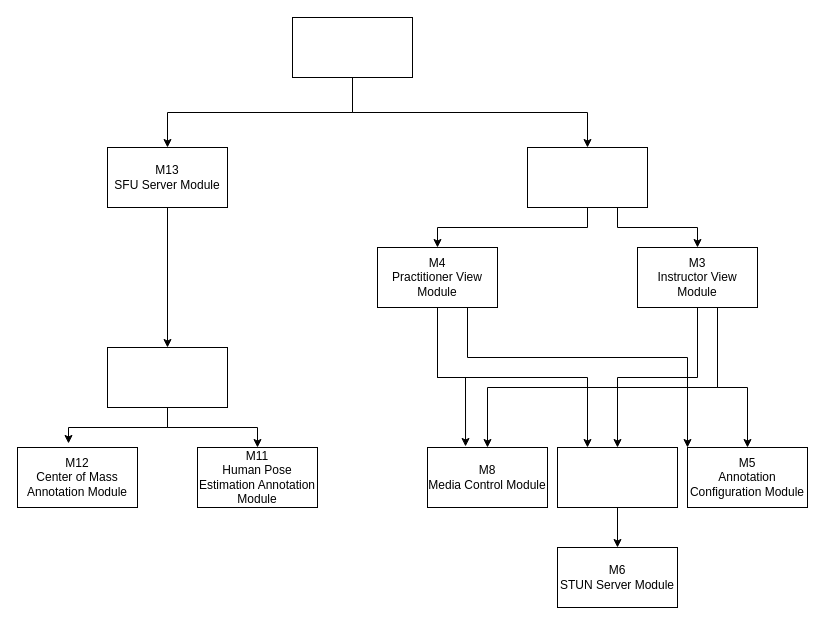
Image size: 825x625. Some labels were removed from this diagram. Here are the shapes that lost their labels. From the top down, the box of each, then its label:
(292, 16, 412, 78): M 9 App Module
(526, 146, 648, 208): M2 User Authentication Module
(106, 346, 228, 408): M10 Video Transform Module
(556, 446, 678, 508): M7 RTC Control Module
